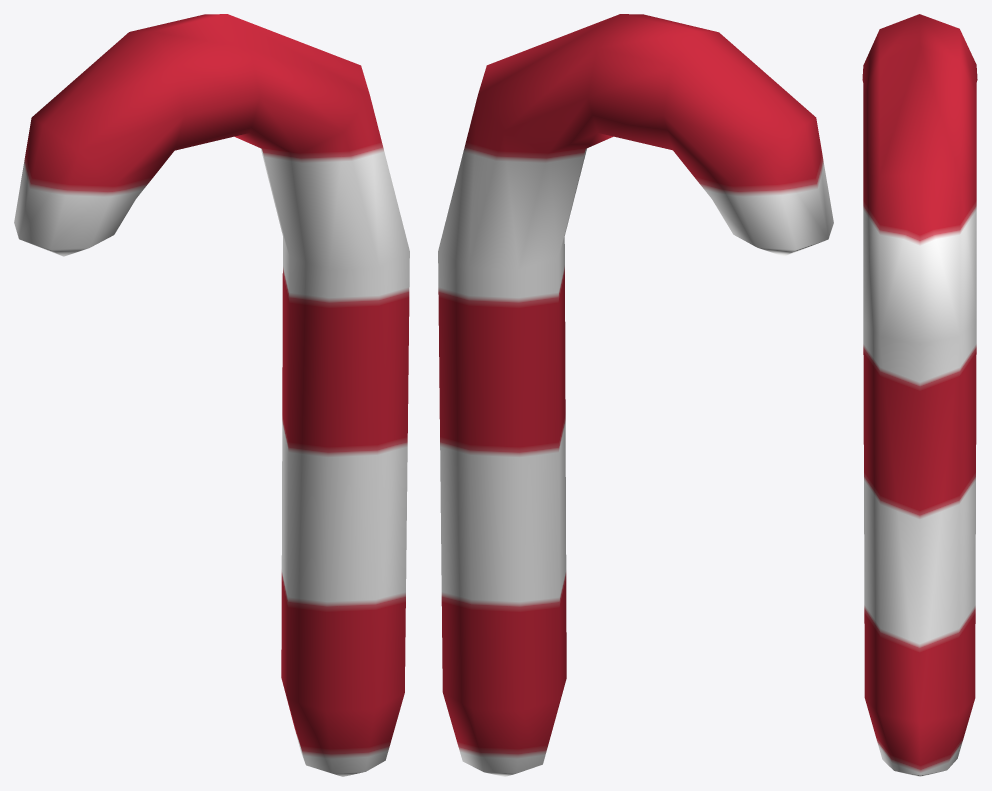
The model's file is CandyCane_Art.fbx.
The picture shows the model from 3 angles, left to right: view 1: azimuth 30°, elevation 25°; view 2: azimuth 150°, elevation 25°; view 3: azimuth 270°, elevation 25°; orthographic projection. The views are drawn at different scales.
Visible parts, largest first — view 1: CandyCane_Art; view 2: CandyCane_Art; view 3: CandyCane_Art.
Boxes of the visible parts, <box> form: CandyCane_Art: <box>14,14,409,776</box>; CandyCane_Art: <box>438,14,833,776</box>; CandyCane_Art: <box>862,14,977,776</box>.
Size of the model in its own units: 0.2418 by 0.4763 by 0.0727.
